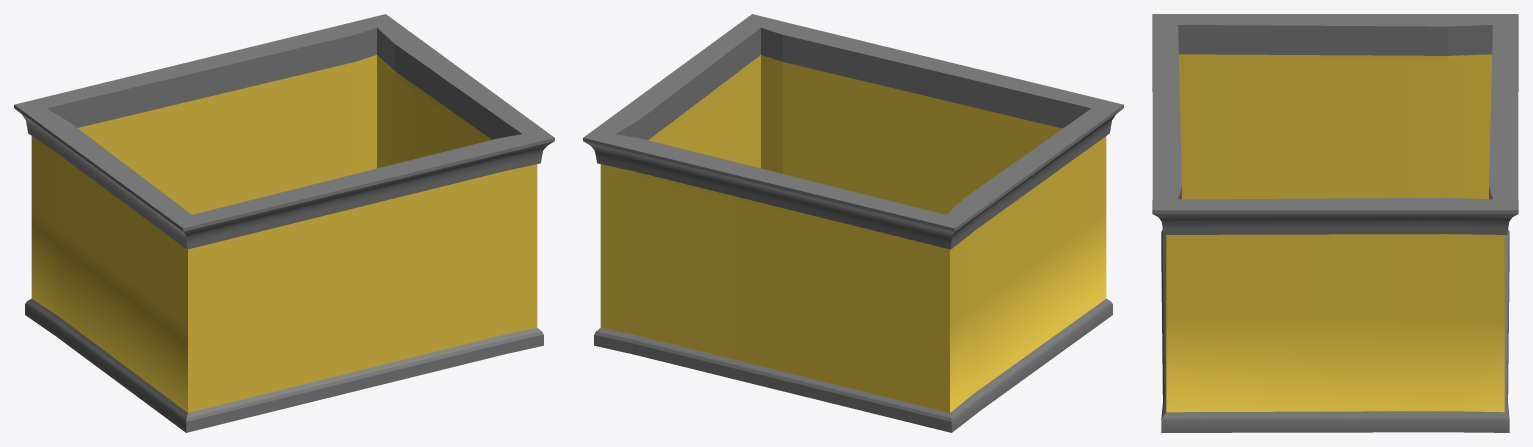
Rendered from Building_Test1.fbx.
3 views of the same model, side by side, from view 1: azimuth 30°, elevation 25°; view 2: azimuth 150°, elevation 25°; view 3: azimuth 270°, elevation 25° (orthographic). The views are drawn at different scales.
Parts seen in each view (by area): view 1: Test1_Building; view 2: Test1_Building; view 3: Test1_Building.
Part boxes in pixels (left/top/right/bottom): Test1_Building: left=14, top=14, right=554, bottom=432; Test1_Building: left=583, top=14, right=1123, bottom=432; Test1_Building: left=1152, top=14, right=1518, bottom=432.
Bounding box in the file's own units: 220 × 118 × 173.
